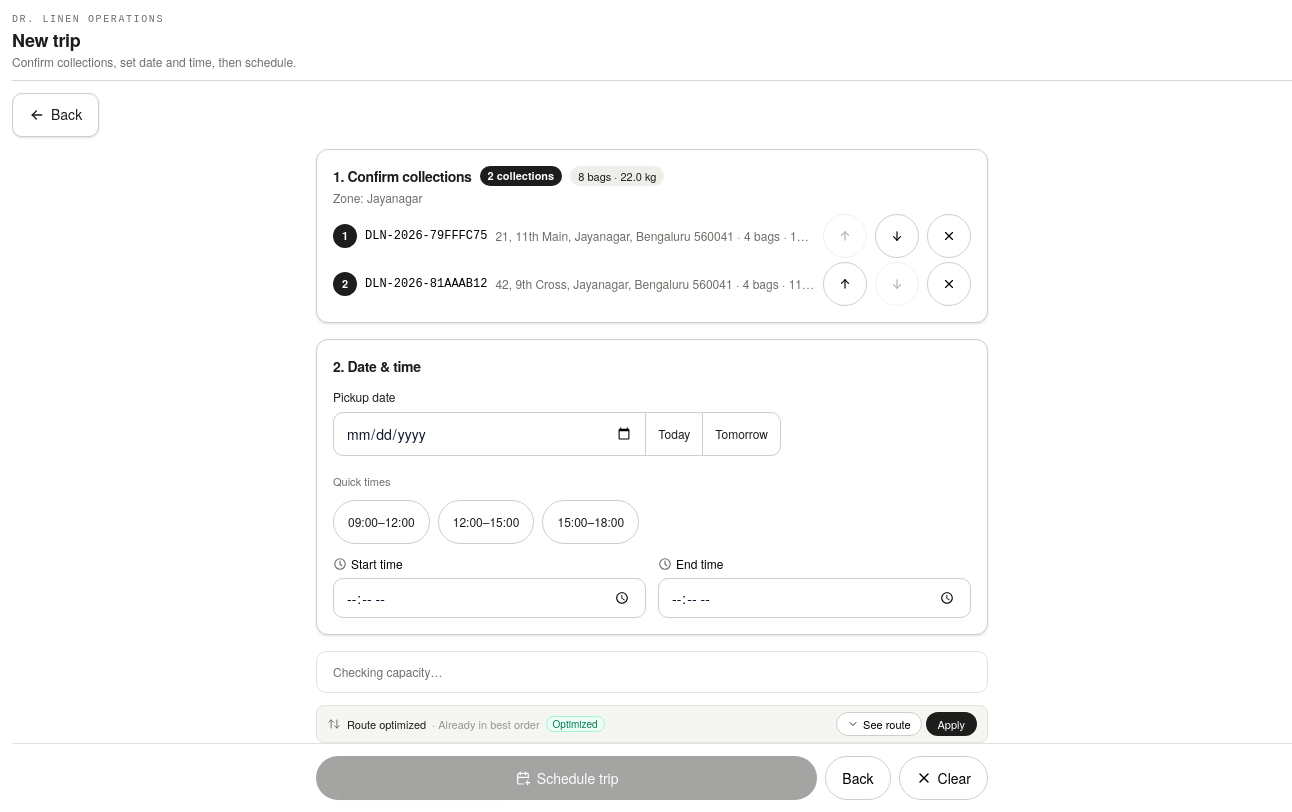
it: TextileTripNewPage › keeps scheduling validation working for a mixed ready + missed selection
Expected: the button "Schedule trip" is disabled, x1=316 y1=756 x2=817 y2=800
Type "2026-09-20" into the date field labelled "Pickup date".
click(490, 434); type("2026-09-20")  # box x1=333 y1=412 x2=646 y2=456
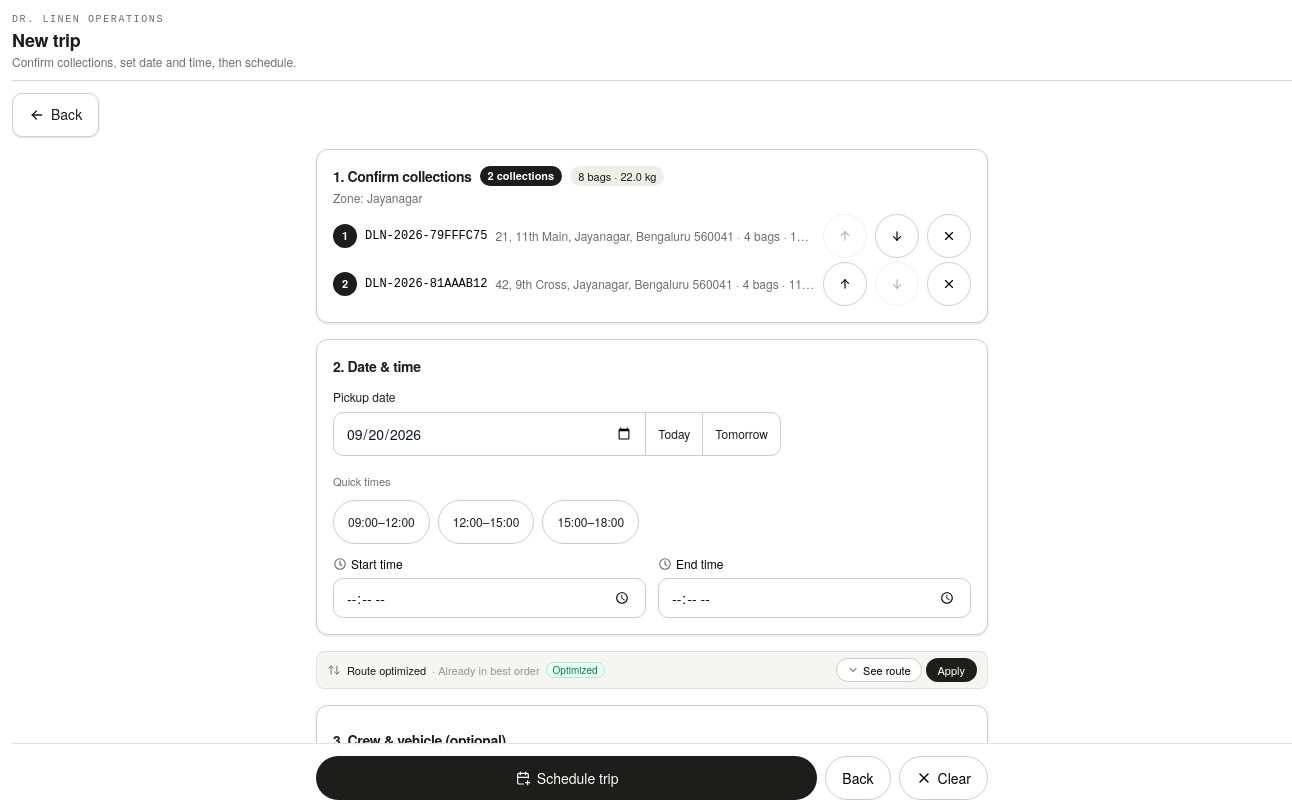
Result: the button "Schedule trip" is enabled at x1=316 y1=756 x2=817 y2=800
